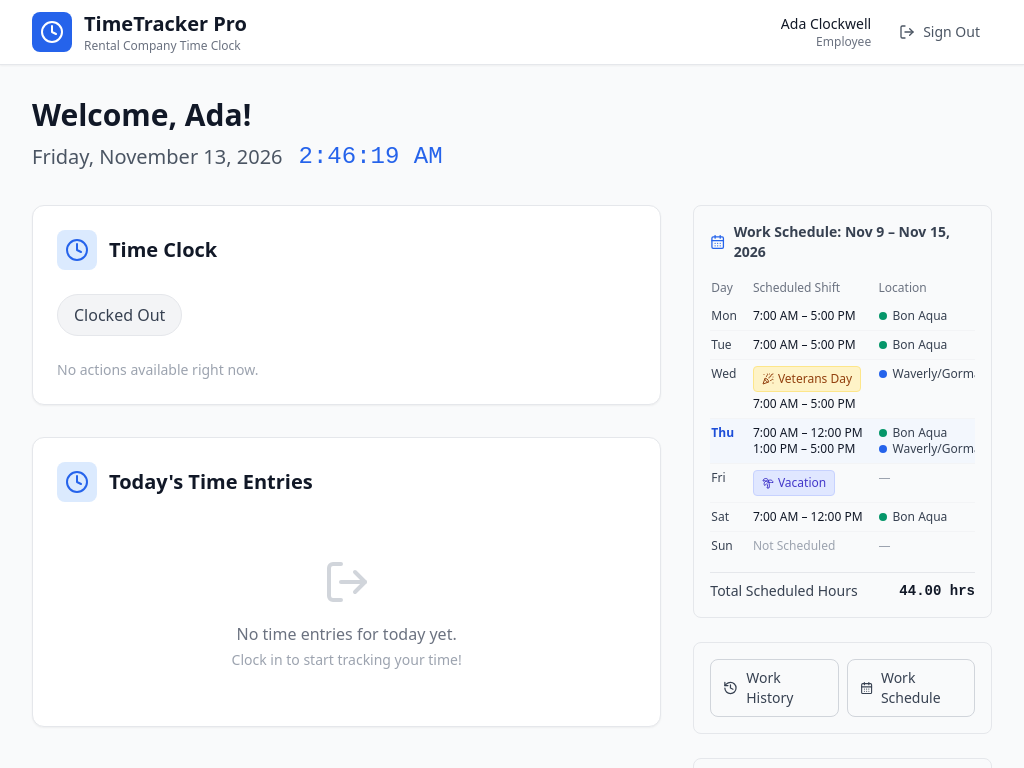
it: Employee Dashboard placement › the existing Work Schedule button still opens the unchanged /schedule page
Expected: the text "Work Schedule: Nov 9 – Nov 15, 2026" is shown, [734, 222, 975, 262]
Click the link "Work Schedule".
click(911, 688)  # box [847, 659, 975, 717]
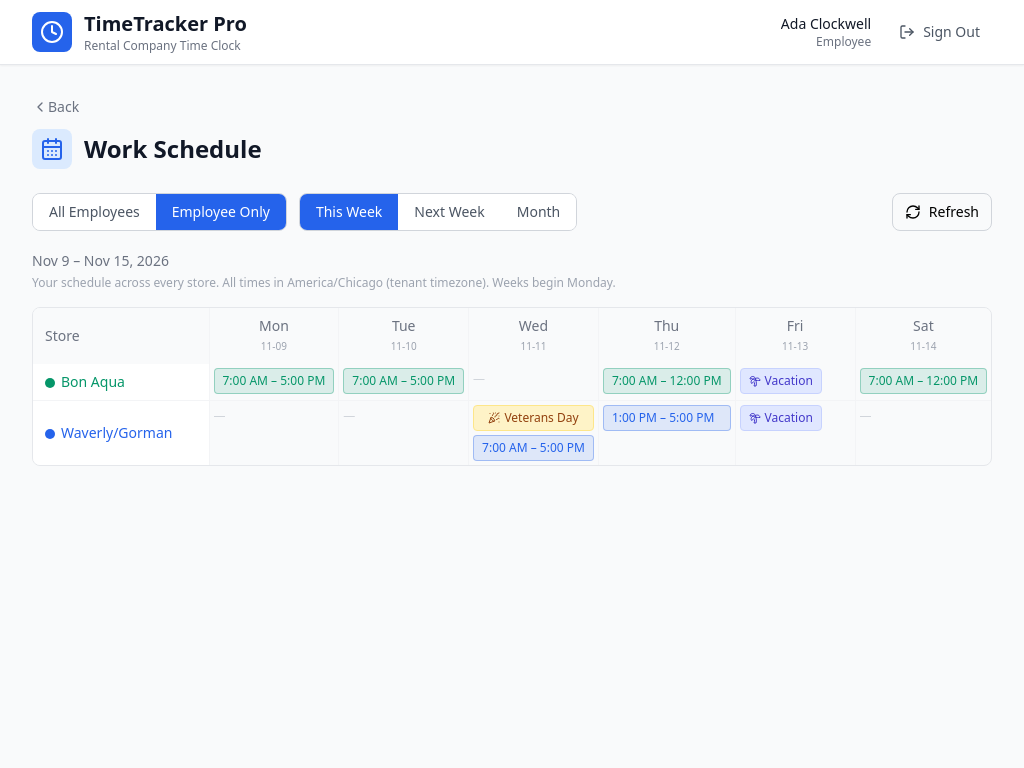
Expected: the button "Employee Only" is shown, [156, 194, 286, 230]
Expected: the button "All Employees" is shown, [33, 194, 156, 230]
Expected: the button "Month" is shown, [501, 194, 576, 230]
